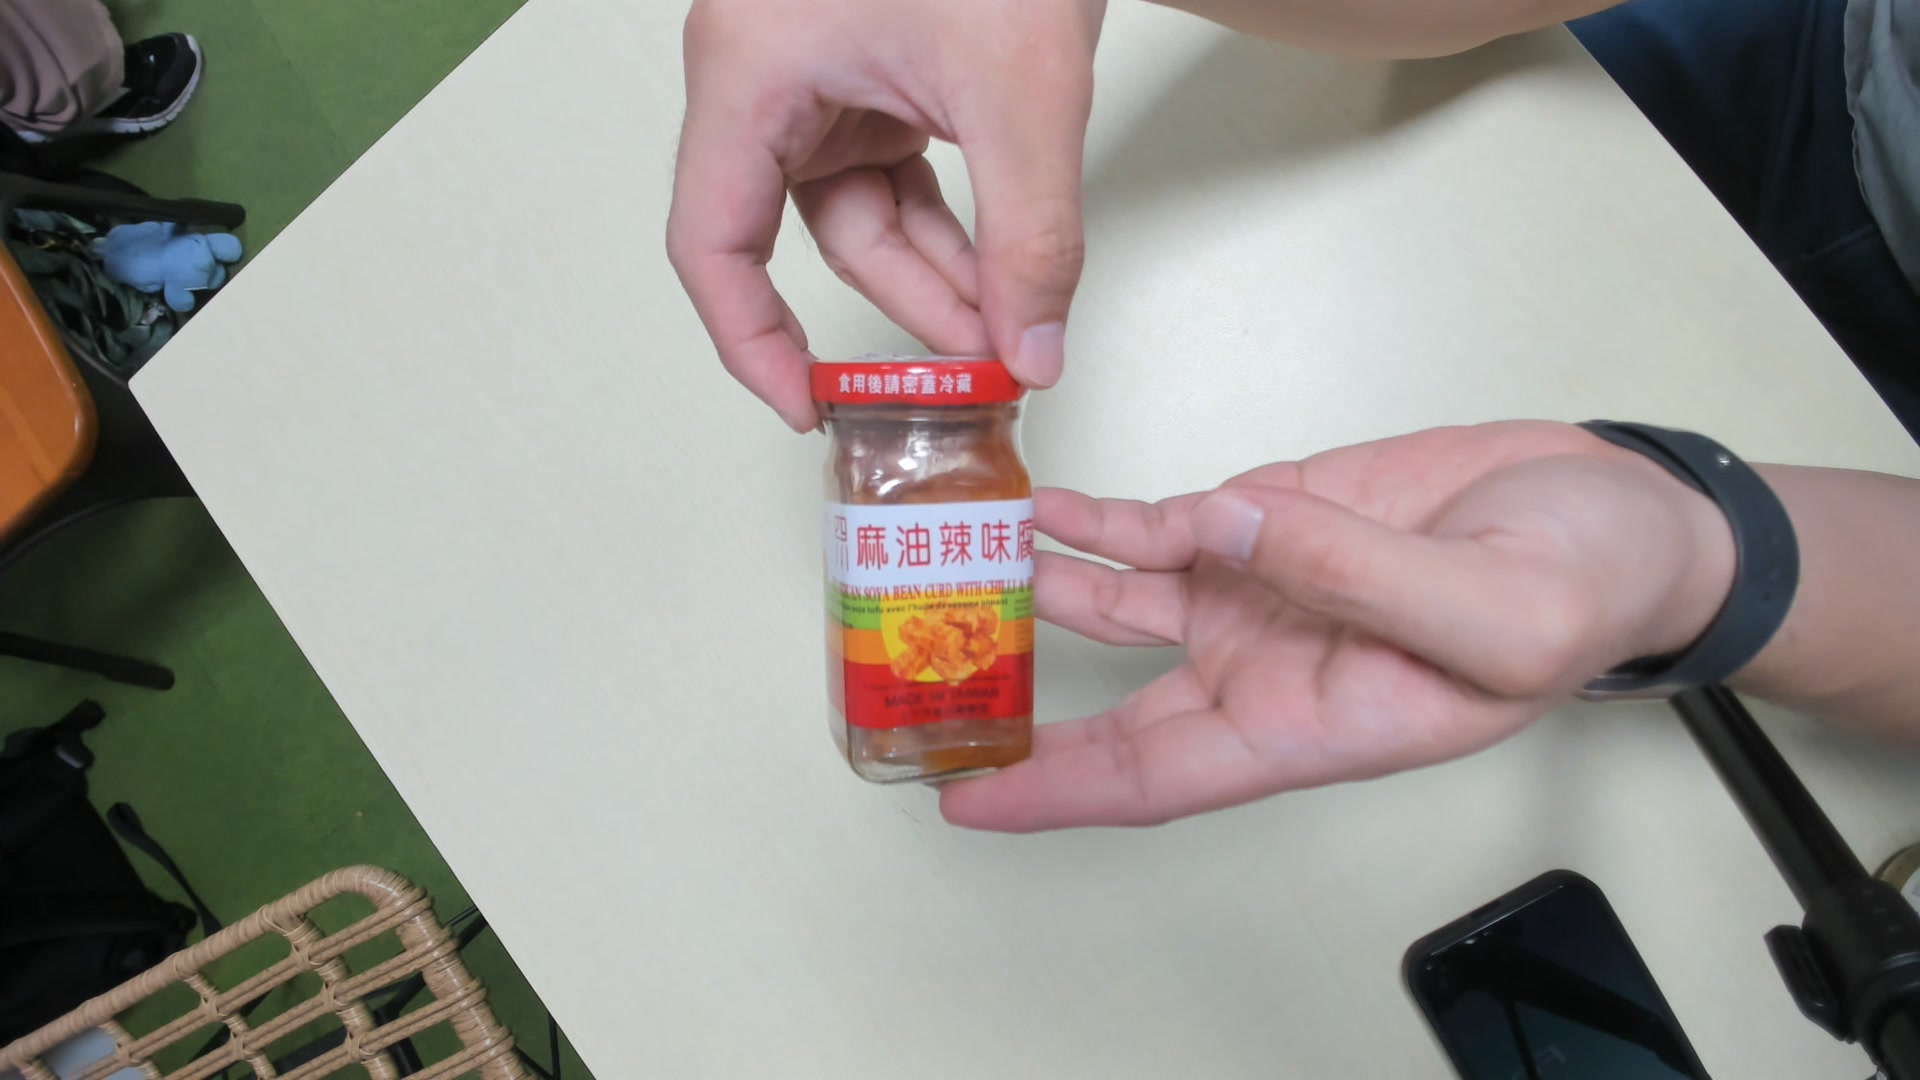OtherSauceDressing_100-199g_NonHalal_NonHealthy: (803, 353, 1036, 777)
